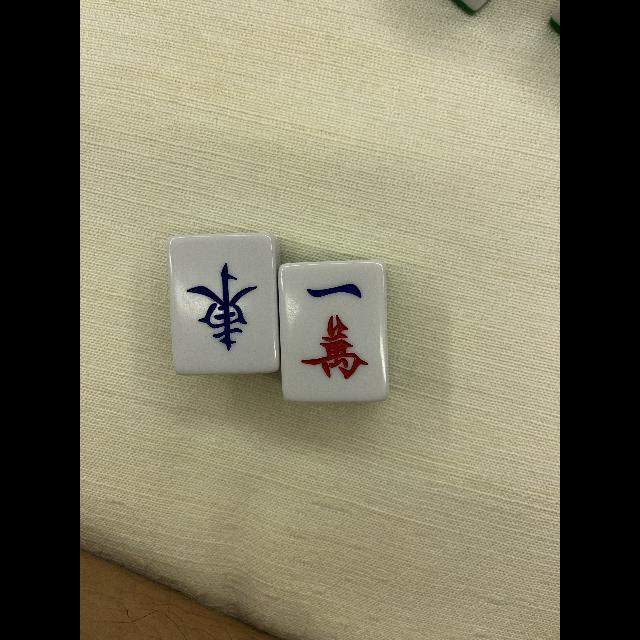c1: (282, 264, 384, 400)
we: (170, 235, 276, 371)
